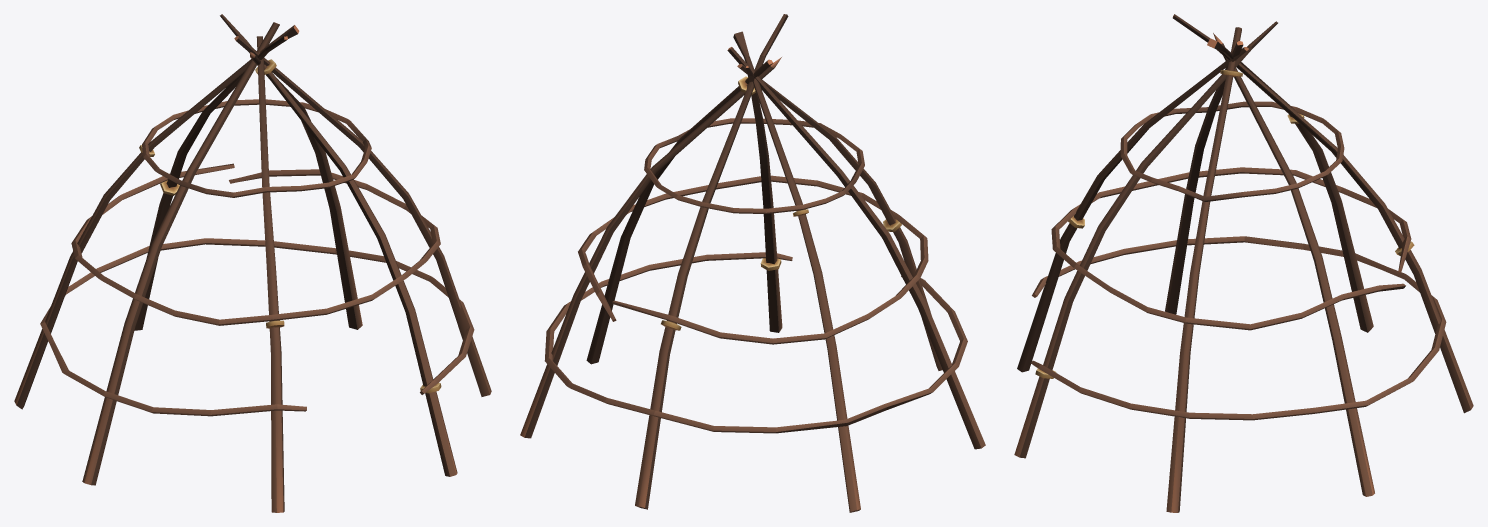
The model's file is Hut_2E.fbx.
3 views of the same model, side by side, from view 1: azimuth 30°, elevation 25°; view 2: azimuth 150°, elevation 25°; view 3: azimuth 270°, elevation 25° (orthographic). The views are drawn at different scales.
Visible parts, largest first — view 1: Hut_2E; view 2: Hut_2E; view 3: Hut_2E.
Part boxes in pixels (x1,y1,x2,y2): Hut_2E: (14,14,491,512); Hut_2E: (520,14,985,512); Hut_2E: (1014,14,1473,512).
Bounding box in the file's own units: 5.58 × 5.32 × 5.5.
